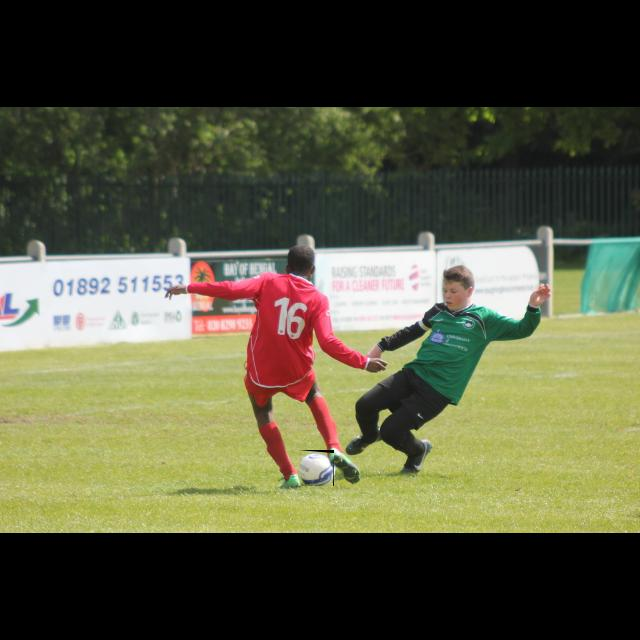Football: (298, 450, 334, 486)
